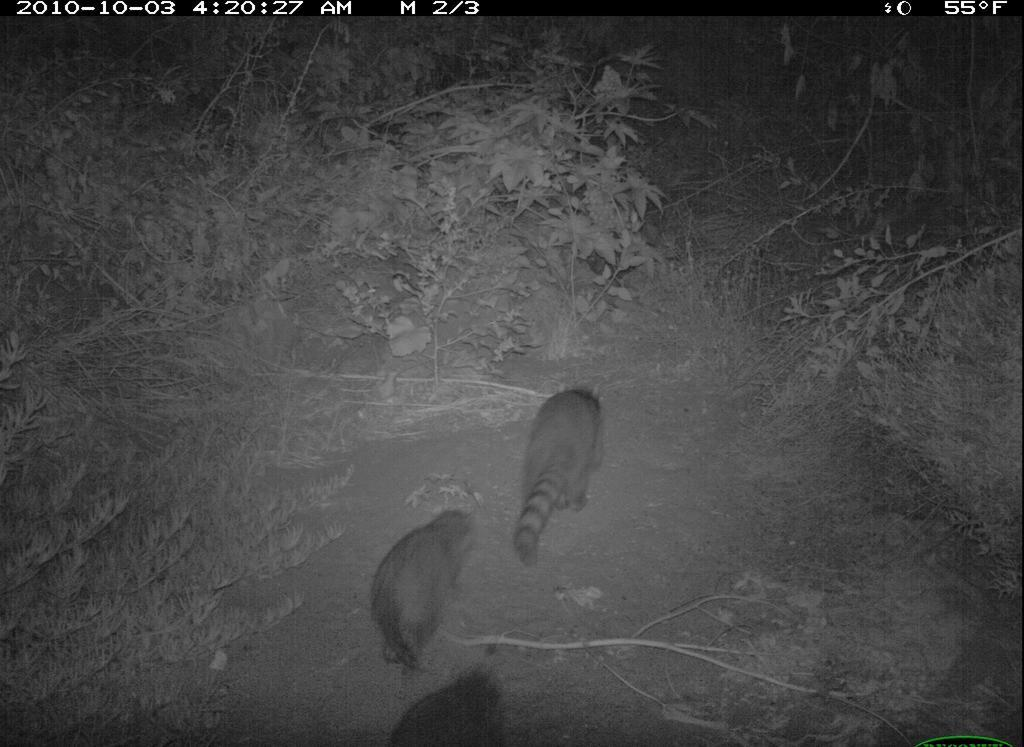raccoon: (388, 679, 508, 747)
